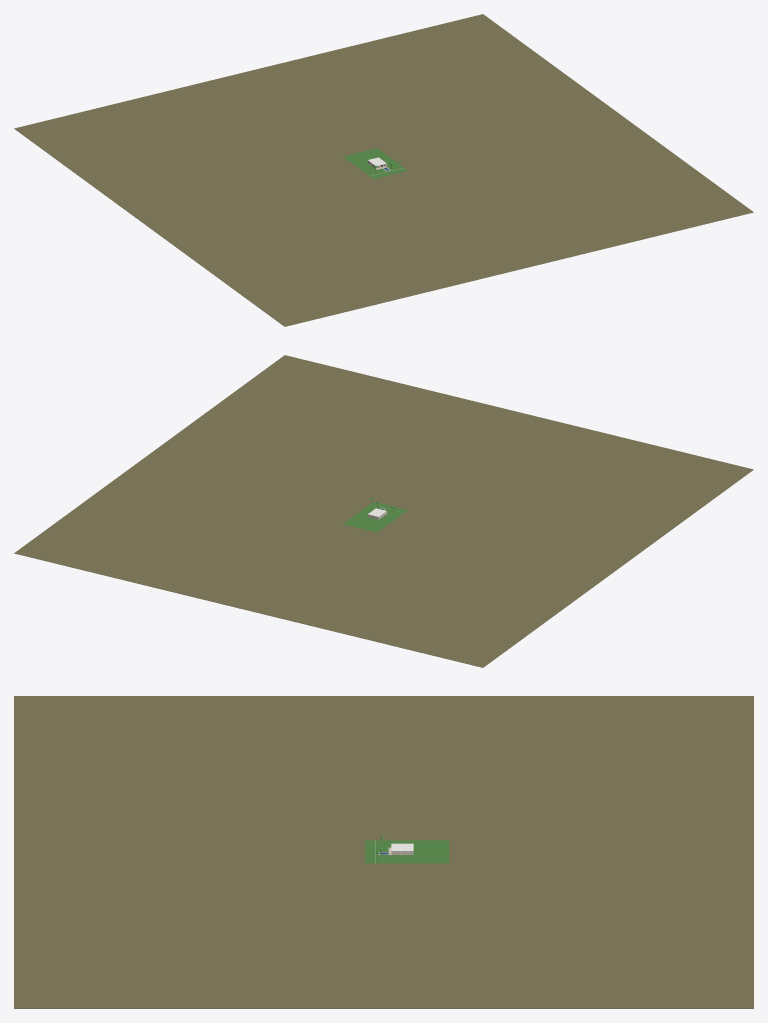
The model's file is room-kitchen.glb.
3 renders of one model, top to bottom at view 1: azimuth 30°, elevation 25°; view 2: azimuth 150°, elevation 25°; view 3: azimuth 270°, elevation 25°, orthographic. The views are drawn at different scales.
Parts seen in each view (by area): view 1: exterior|MI_floodwater, exterior|MI_lawn; view 2: exterior|MI_floodwater, exterior|MI_lawn; view 3: exterior|MI_floodwater, exterior|MI_lawn.
Boxes of the visible parts, x1,y1,x2,y2 form: exterior|MI_floodwater: [14, 14, 753, 326]; exterior|MI_lawn: [343, 148, 407, 178]; exterior|MI_floodwater: [14, 355, 753, 667]; exterior|MI_lawn: [343, 501, 407, 532]; exterior|MI_floodwater: [14, 696, 753, 1008]; exterior|MI_lawn: [365, 840, 449, 863].
Size of the model in its own units: 600 by 10.03 by 600.
